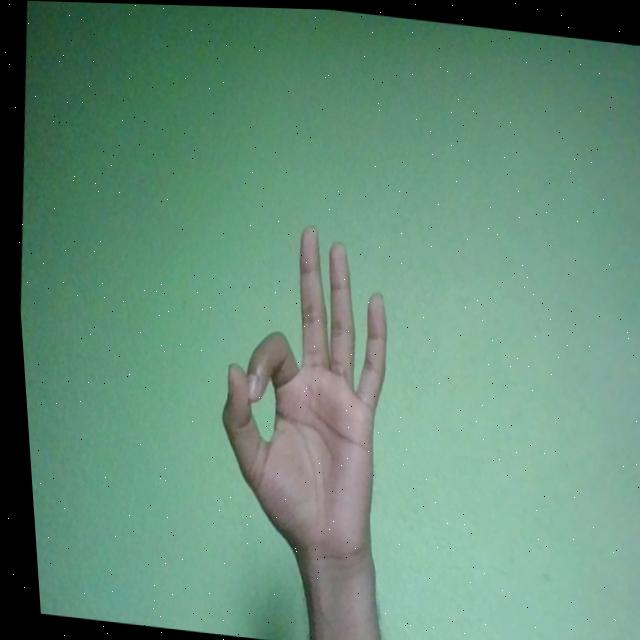Ok: (193, 213, 405, 574)
